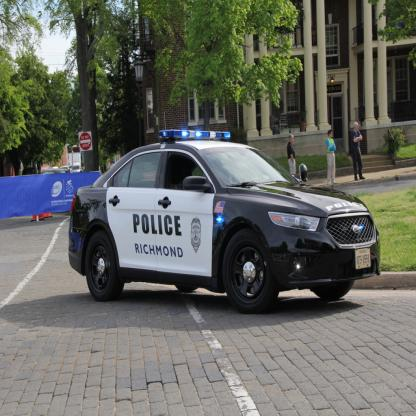Car: (68, 128, 383, 314)
